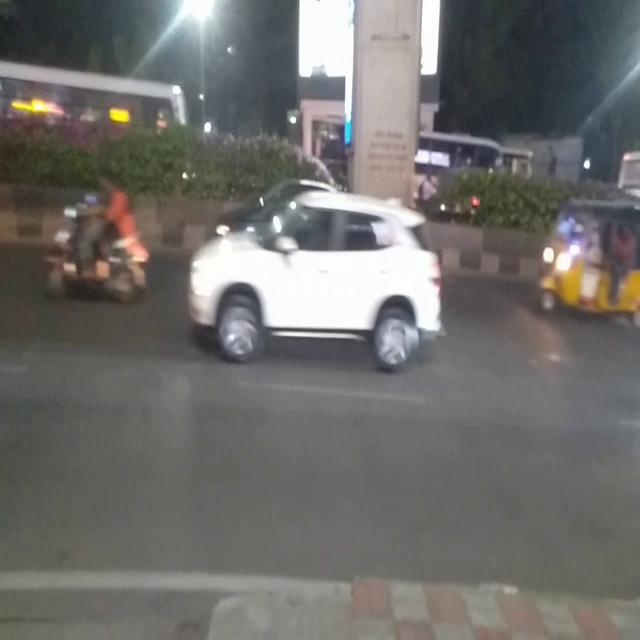auto: (540, 191, 640, 335)
bus: (0, 55, 187, 133)
car: (184, 186, 445, 368)
road: (0, 278, 640, 574)
sidewalk: (1, 573, 639, 640)
